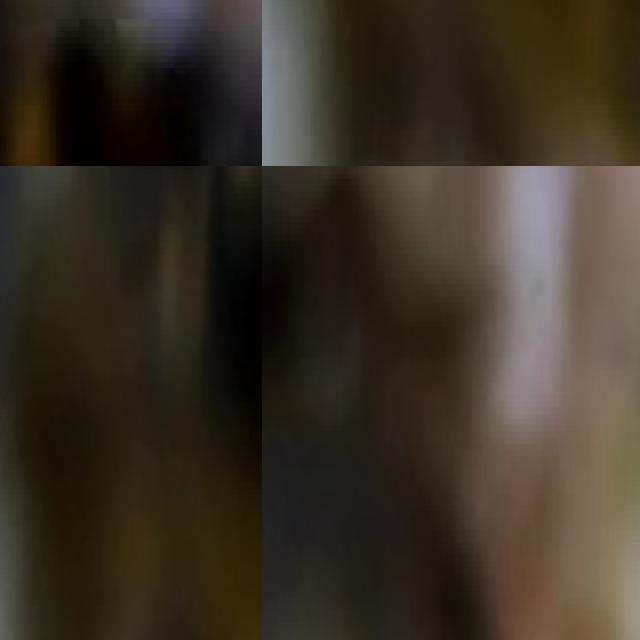fish: (262, 179, 510, 640), (262, 0, 640, 166), (0, 0, 262, 166)
